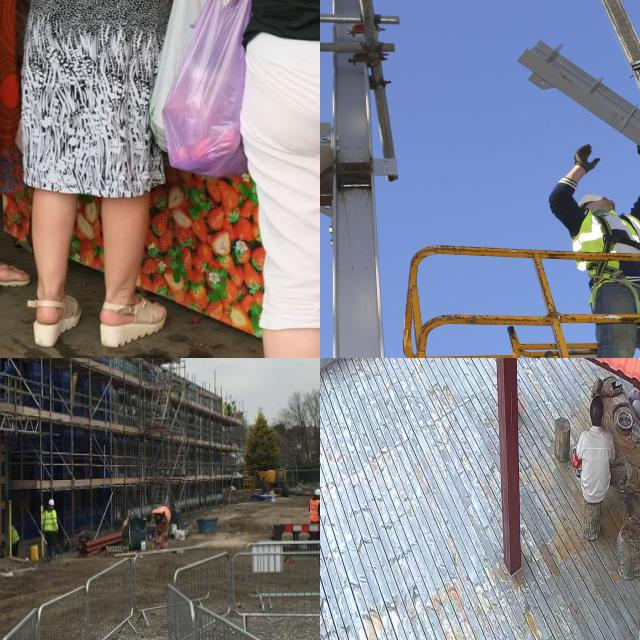hand_glove: (568, 143, 607, 178), (631, 131, 640, 162)
head_helmet: (576, 191, 614, 206), (47, 498, 53, 508), (314, 487, 320, 497)
person: (551, 139, 640, 358), (40, 499, 59, 555), (308, 487, 320, 522)
vest: (574, 208, 640, 279), (40, 508, 59, 534), (307, 500, 320, 529)
